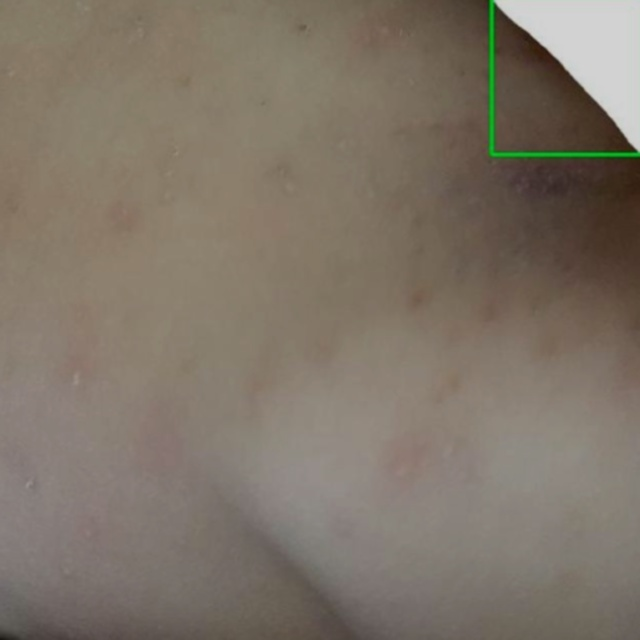Contact Dermatitis: (491, 0, 639, 154)
